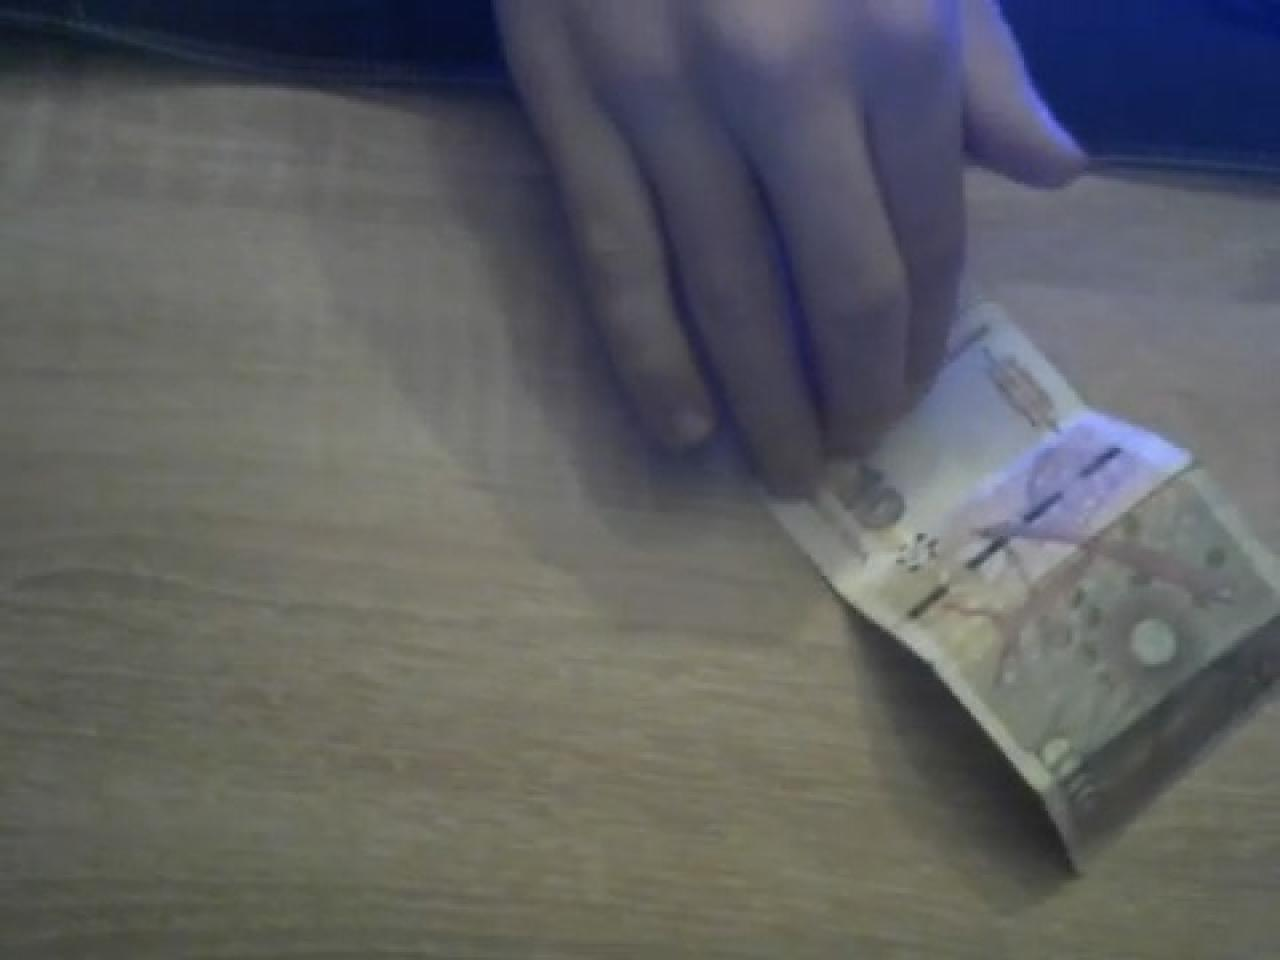10leva: (768, 302, 1280, 874)
